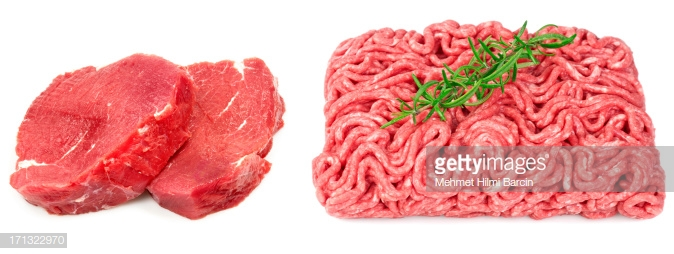ground_beef: (311, 26, 668, 216), (22, 55, 280, 213)
